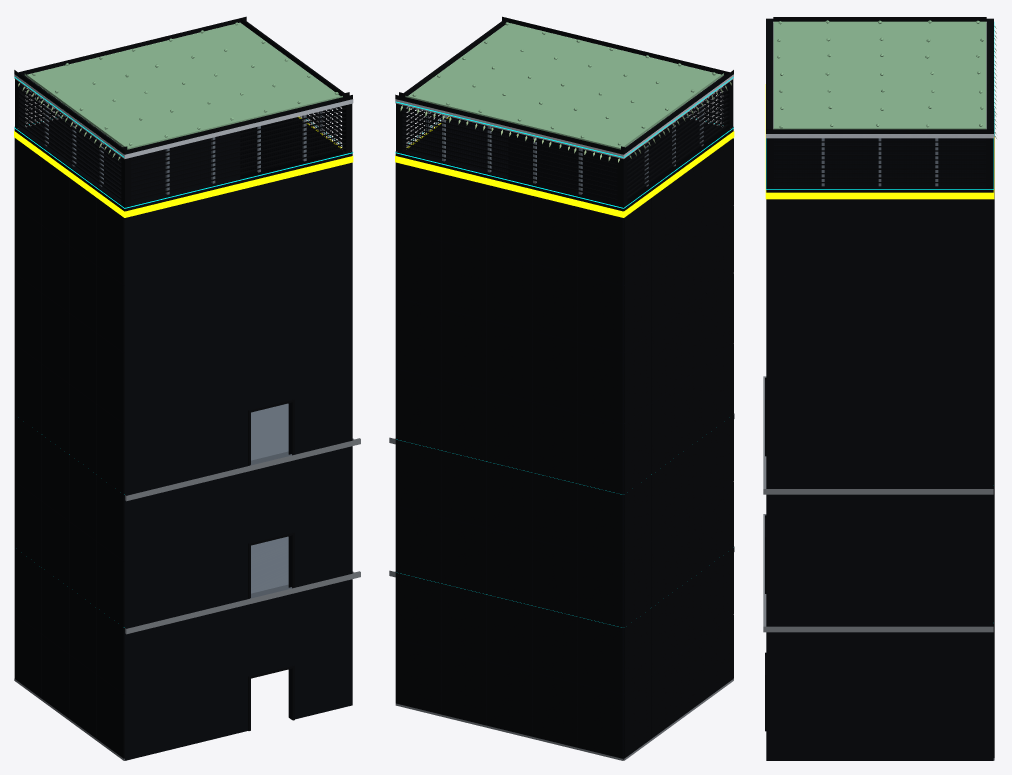
Rendered from tt_services_plant_stack.glb.
3 views of the same model, side by side, from view 1: azimuth 30°, elevation 25°; view 2: azimuth 150°, elevation 25°; view 3: azimuth 270°, elevation 25° (orthographic). The views are drawn at different scales.
Visible parts, largest first — view 1: Stack_Walls, Clad_Panels, Sedum_Roof, Louvre_Blades, Bird_Net_Scissor, Stack_Gratings, Cap_Rim, Slab_Closure, Hazard_Band, Cap_Slab, Door_Frames, Louvre_Posts (+1 smaller); view 2: Clad_Panels, Sedum_Roof, Stack_Walls, Louvre_Blades, Bird_Net_Scissor, Cap_Rim, Hazard_Band, Cap_Slab, Louvre_Posts, Louvre_Mullions, Clad_Plinth; view 3: Stack_Walls, Sedum_Roof, Louvre_Blades, Cap_Rim, Bird_Net_Scissor, Slab_Closure, Hazard_Band, Cap_Slab, Clad_Panels, Louvre_Posts, Door_Frames, Louvre_Mullions.
Boxes of the visible parts, x1,y1,x2,y2 form: Stack_Walls: (14, 117, 352, 760); Clad_Panels: (14, 139, 124, 758); Sedum_Roof: (24, 22, 342, 149); Louvre_Blades: (19, 85, 345, 200); Bird_Net_Scissor: (24, 86, 342, 201); Stack_Gratings: (250, 403, 291, 598); Cap_Rim: (14, 16, 352, 154); Slab_Closure: (125, 438, 360, 634); Hazard_Band: (14, 116, 353, 217); Cap_Slab: (14, 38, 353, 158); Door_Frames: (248, 399, 294, 730); Louvre_Posts: (15, 79, 352, 206); Clad_Panels: (396, 139, 733, 758); Sedum_Roof: (405, 22, 723, 149); Stack_Walls: (395, 117, 733, 760); Louvre_Blades: (402, 85, 729, 200); Bird_Net_Scissor: (406, 86, 723, 201); Cap_Rim: (395, 16, 733, 154); Hazard_Band: (395, 116, 734, 217); Cap_Slab: (395, 33, 733, 158); Louvre_Posts: (396, 79, 733, 206); Louvre_Mullions: (425, 101, 703, 194); Clad_Plinth: (395, 679, 733, 760); Stack_Walls: (766, 138, 993, 760); Sedum_Roof: (773, 20, 986, 129); Louvre_Blades: (774, 141, 985, 183); Cap_Rim: (766, 17, 993, 133); Bird_Net_Scissor: (774, 138, 985, 184); Slab_Closure: (763, 376, 993, 632); Hazard_Band: (765, 84, 994, 199); Cap_Slab: (766, 23, 993, 138); Clad_Panels: (993, 108, 994, 758); Louvre_Posts: (766, 138, 993, 187); Door_Frames: (765, 377, 766, 731); Louvre_Mullions: (821, 138, 938, 186).
Size of what is drawn, in the model's own units: 11.42 by 28 by 9.41.
Materials: 10 (5 with a texture image).
